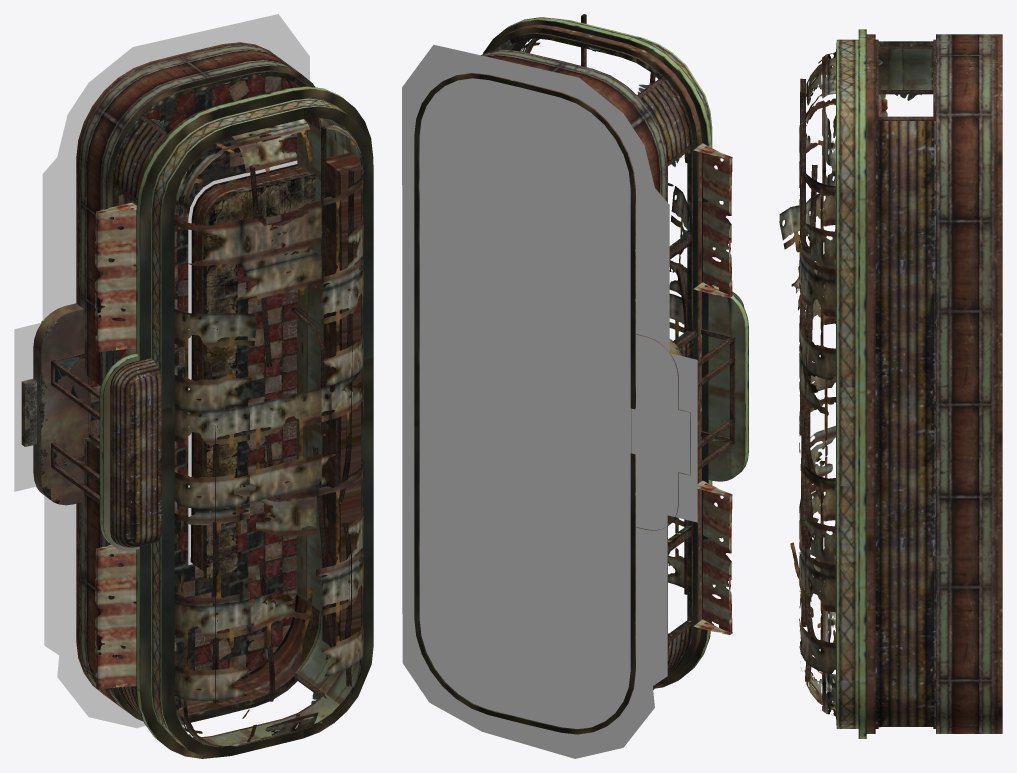
Rendered from diner.obj.
3 views of the same model, side by side, from view 1: azimuth 30°, elevation 25°; view 2: azimuth 150°, elevation 25°; view 3: azimuth 270°, elevation 25° (orthographic).
Visible parts, largest first — view 1: diner:1, diner:0, diner:3, diner:2, diner:4; view 2: diner:3, diner:1, diner:0; view 3: diner:1, diner:0.
Boxes of the visible parts, x1,y1,x2,y2 form: diner:1: (21, 42, 373, 758); diner:0: (51, 70, 360, 746); diner:3: (14, 14, 309, 728); diner:2: (53, 74, 319, 703); diner:4: (22, 318, 59, 503); diner:3: (402, 44, 697, 758); diner:1: (414, 17, 748, 734); diner:0: (493, 14, 748, 642); diner:1: (779, 29, 1002, 738); diner:0: (800, 39, 935, 728).
Size of what is drawn, in the model's own units: 686 by 1512 by 446.
